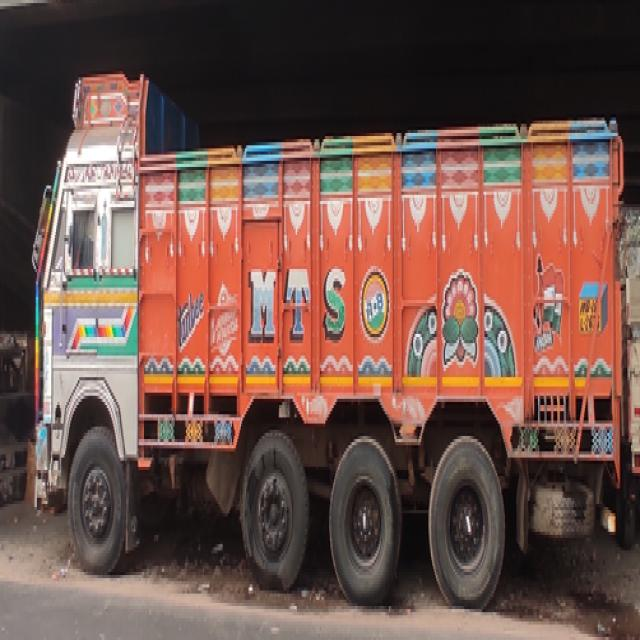truck: (23, 62, 628, 609)
